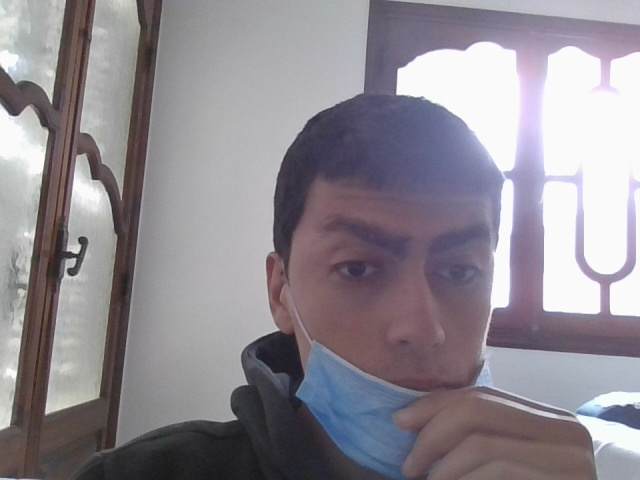mask_weared_incorrect: (287, 109, 507, 480)
